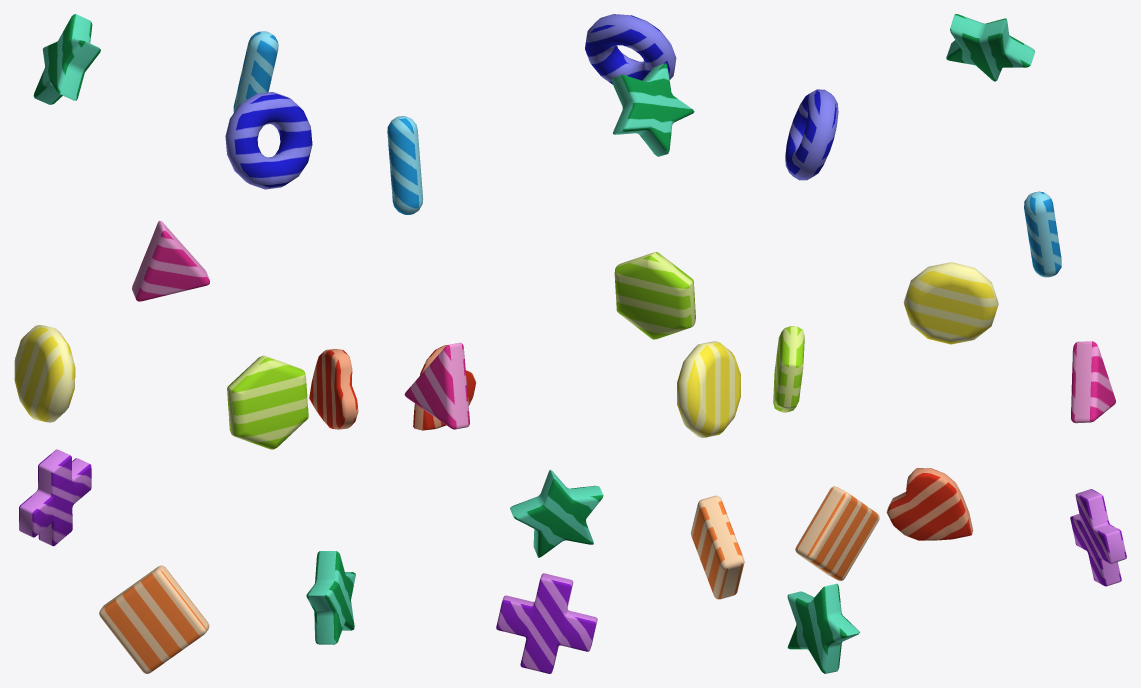
Rendered from decopart_In_Place.fbx.
3 views of the same model, side by side, from view 1: azimuth 30°, elevation 25°; view 2: azimuth 150°, elevation 25°; view 3: azimuth 270°, elevation 25° (orthographic). The views are drawn at different scales.
Visible parts, largest first — view 1: Cube.008, Torus.008, Cylinder.017, Cylinder.016, Cube.010, Cube.009, Star.001, Star, Cylinder.018, Sphere.003; view 2: Cube.010, Cylinder.017, Cylinder.016, Torus.008, Star, Star.001, Cube.008, Cube.009, Sphere.003, Cylinder.018; view 3: Cylinder.016, Cube.008, Cylinder.018, Star, Star.001, Torus.008, Cube.010, Cube.009, Sphere.003, Cylinder.017.
Part boxes in pixels (x1,y1,x2,y2): Cube.008: (99,565,209,673); Torus.008: (225,92,312,189); Cylinder.017: (227,355,308,449); Cylinder.016: (14,325,75,422); Cube.010: (19,449,91,546); Cube.009: (132,221,209,301); Star.001: (33,14,100,104); Star: (306,551,355,644); Cylinder.018: (309,349,358,429); Sphere.003: (233,31,278,112); Cube.010: (496,573,597,673); Cylinder.017: (614,252,695,339); Cylinder.016: (677,341,740,437); Torus.008: (585,14,676,84); Star: (510,469,603,557); Star.001: (611,63,694,156); Cube.008: (690,495,744,599); Cube.009: (404,342,469,429); Sphere.003: (387,116,422,214); Cylinder.018: (413,345,476,430); Cylinder.016: (903,262,998,344); Cube.008: (795,486,879,580); Cylinder.018: (886,468,973,540); Star: (787,583,859,673); Star.001: (946,14,1034,81); Torus.008: (785,89,838,180); Cube.010: (1070,489,1126,586); Cube.009: (1071,341,1115,423); Sphere.003: (1024,191,1061,277); Cylinder.017: (773,326,804,412).
Size of the model in its own units: 87.66 by 90.7 by 162.
